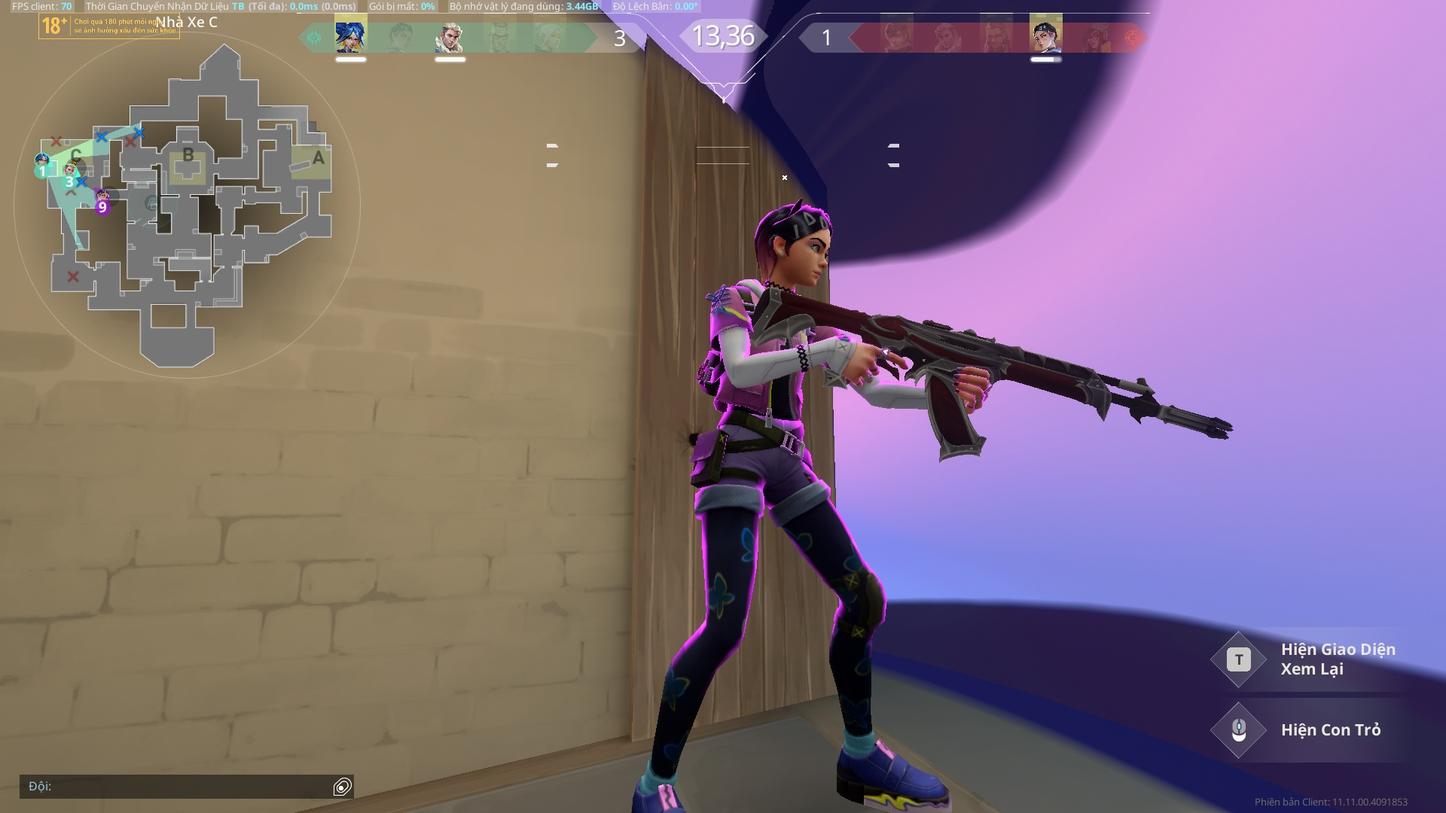body: (709, 278, 826, 421)
head: (755, 199, 825, 276)
